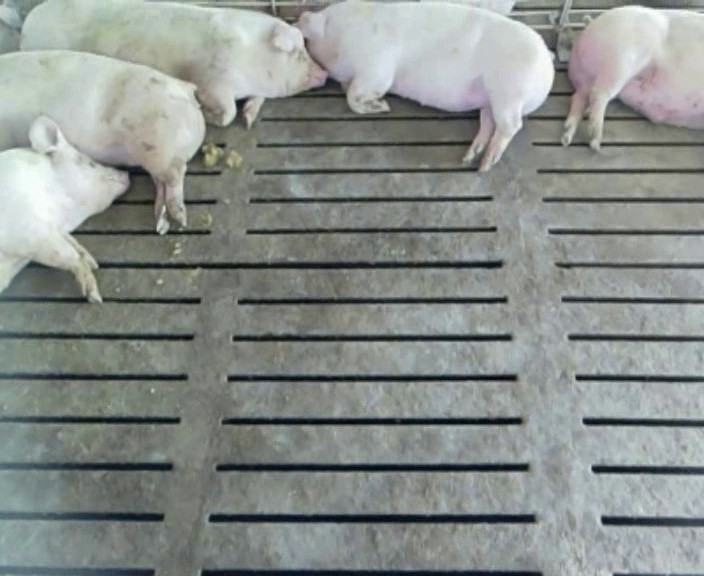pig: (297, 2, 552, 171), (21, 2, 326, 127), (0, 115, 128, 302), (563, 6, 703, 150)
